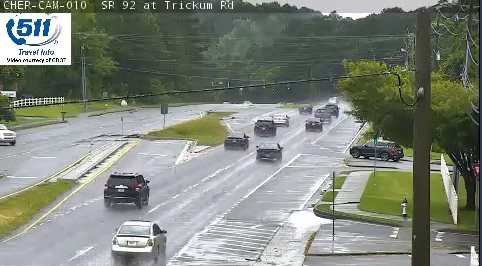car: (111, 222, 164, 256), (104, 173, 151, 202), (256, 143, 282, 161), (224, 133, 248, 149), (254, 118, 275, 134), (272, 113, 288, 126), (305, 119, 322, 131), (316, 109, 330, 122), (299, 103, 311, 114)
